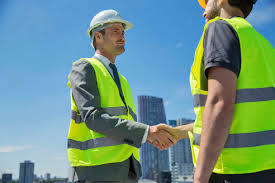Person_wearing_helmet: (82, 6, 134, 40)
